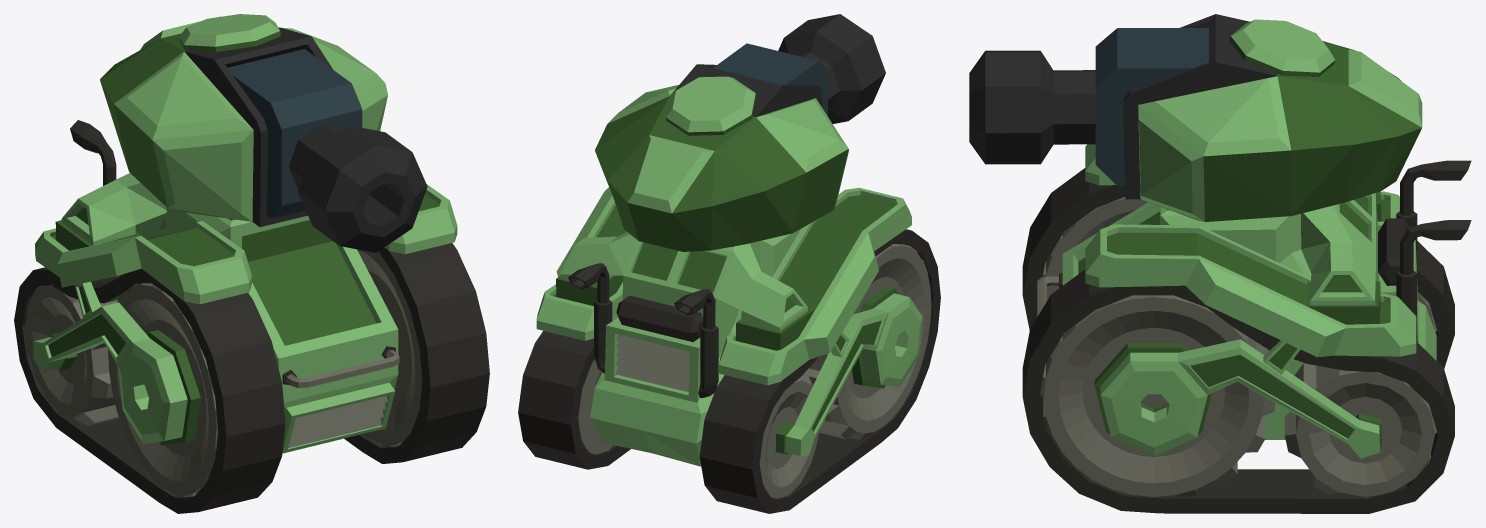
Rendered from Tank_Base.dae.
The picture shows the model from 3 angles, left to right: view 1: azimuth 30°, elevation 25°; view 2: azimuth 150°, elevation 25°; view 3: azimuth 270°, elevation 25°; orthographic projection. The views are drawn at different scales.
Visible parts, largest first — view 1: Base, Turret, Cannon, Cog_RF, Cog_RR, Cog_LF; view 2: Base, Turret, Cannon, Cog_RF, Cog_RR, Cog_LR; view 3: Base, Turret, Cog_LF, Cannon, Cog_LR, Cog_RF.
Part boxes in pixels (box(x1,y1,x2,y2)): Base: box(14, 120, 489, 513); Turret: box(100, 14, 387, 227); Cannon: box(227, 49, 427, 252); Cog_RF: box(108, 283, 217, 497); Cog_RR: box(25, 285, 118, 425); Cog_LF: box(357, 249, 422, 446); Base: box(518, 187, 940, 513); Turret: box(595, 64, 848, 251); Cannon: box(713, 14, 885, 123); Cog_RF: box(803, 244, 931, 440); Cog_RR: box(759, 375, 818, 498); Cog_LR: box(578, 359, 613, 454); Base: box(1022, 144, 1471, 513); Turret: box(1123, 14, 1422, 221); Cog_LF: box(1039, 295, 1275, 497); Cannon: box(969, 28, 1208, 185); Cog_LR: box(1284, 363, 1436, 497); Cog_RF: box(1042, 197, 1147, 300).
Size of the model in its own units: 2.68 by 3.75 by 3.45.
